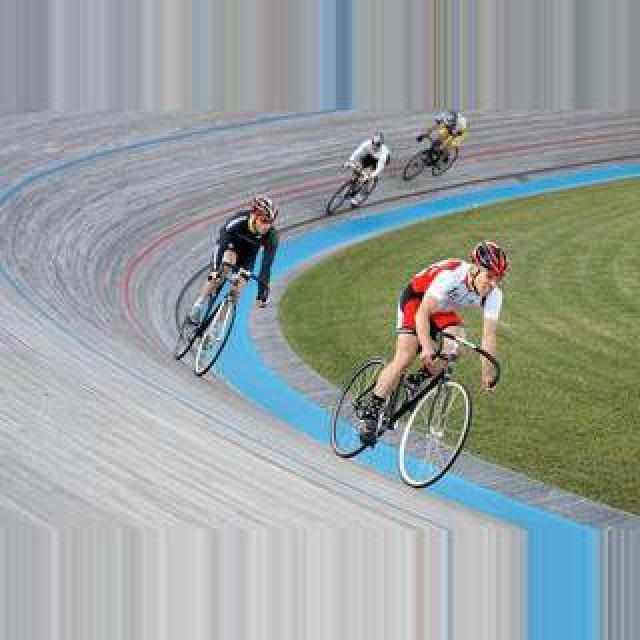MC-Bike: (360, 240, 510, 446), (212, 194, 280, 374), (344, 128, 392, 204)
Person: (332, 334, 498, 490), (174, 266, 250, 376), (328, 162, 386, 214), (404, 138, 462, 182)
